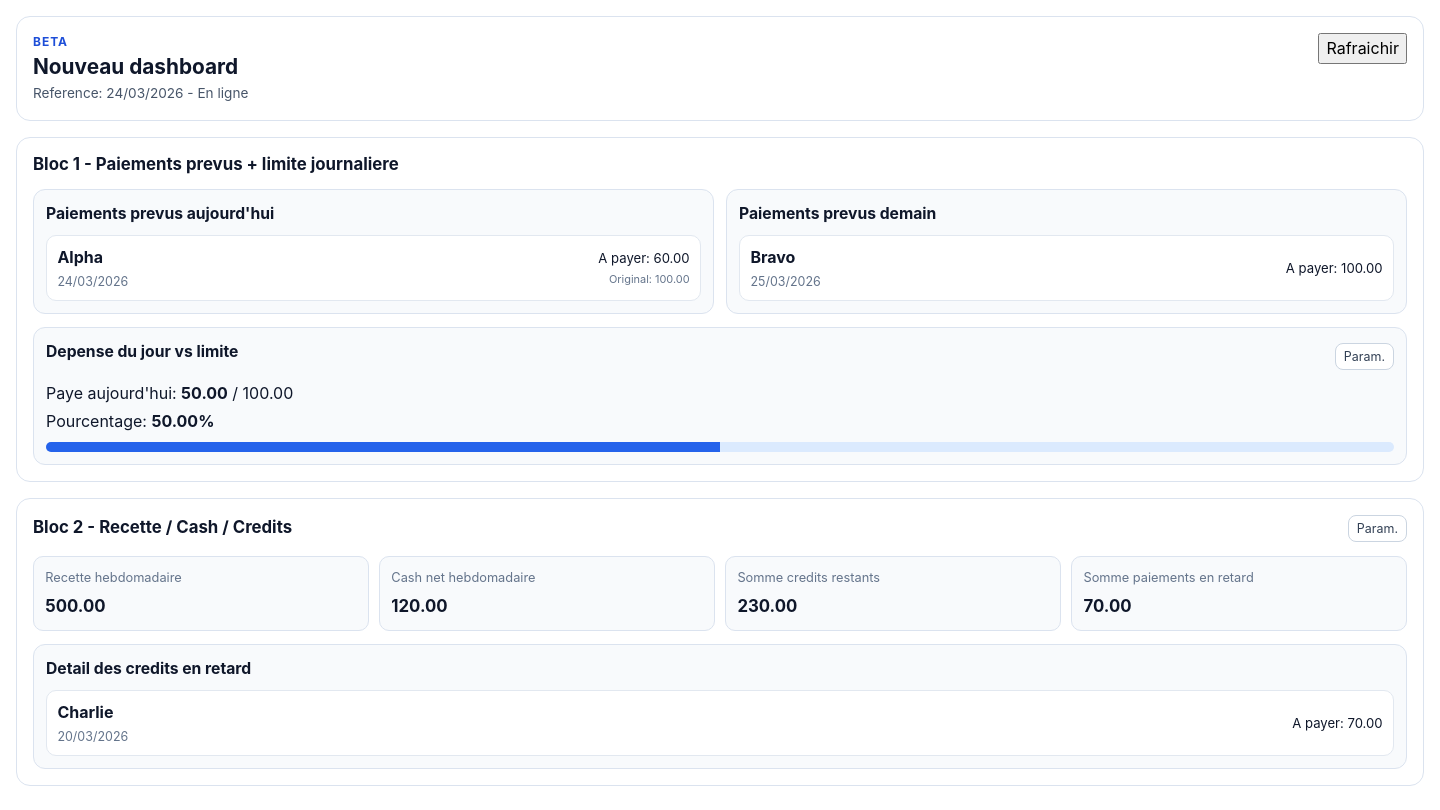
Test: DashboardNext › opens payment modal when clicking an overdue row in bloc 2
Expected: the heading "Detail des credits en retard" is shown, [46,660,251,678]
Step 1. Click the button "Charlie 20/03/2026 A payer: 70.00" → {"x": 85, "y": 712}, box [47,691,1393,755]
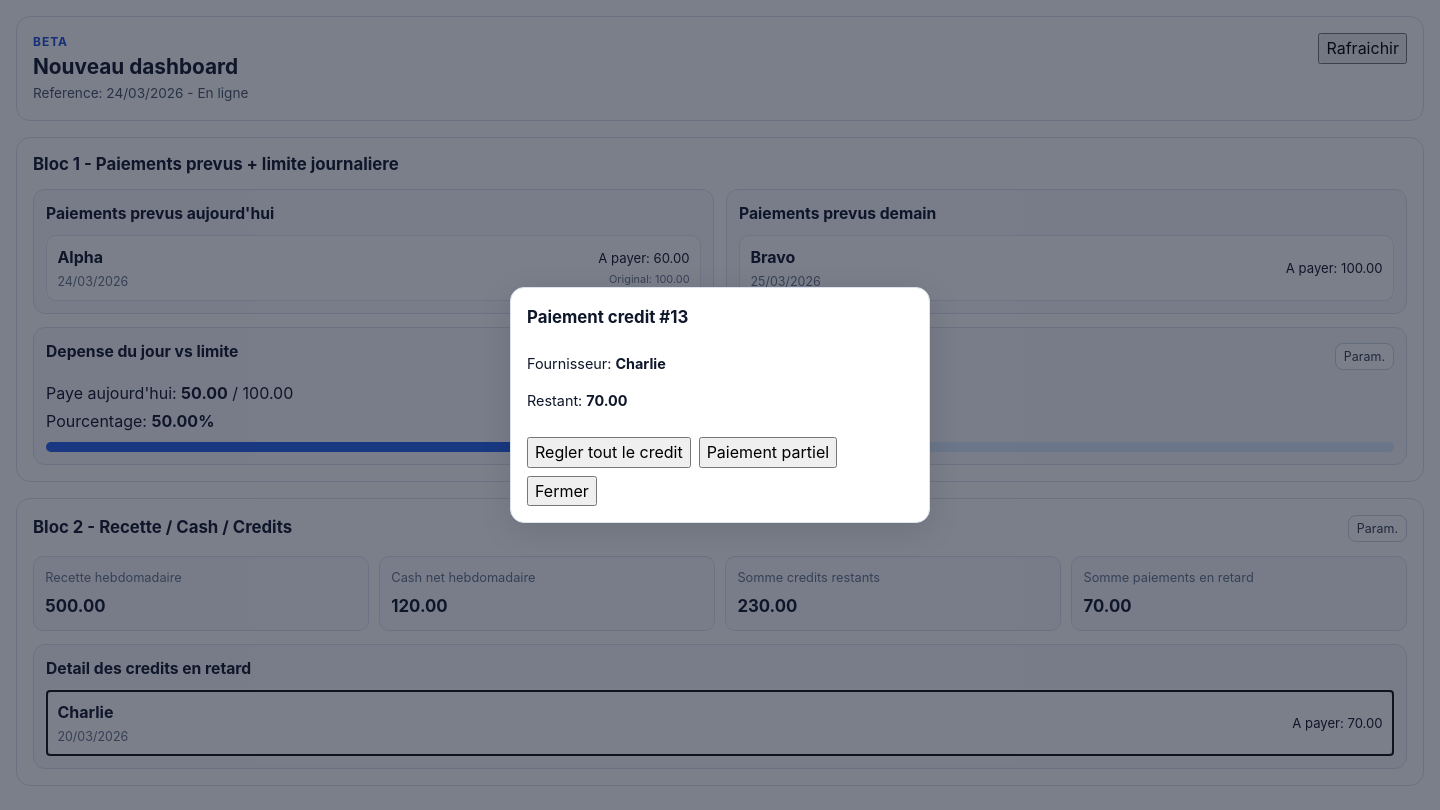
Expected: the heading "Paiement credit #13" is shown, [527,307,688,327]
Expected: the button "Regler tout le credit" is shown, [527,437,691,468]
